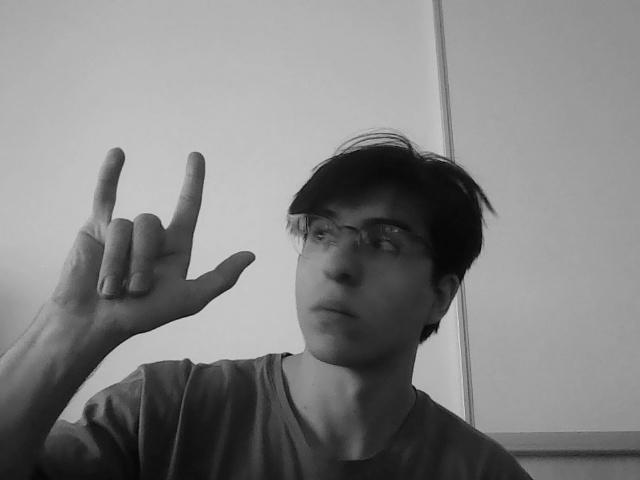I_Love_You: (42, 157, 256, 353)
